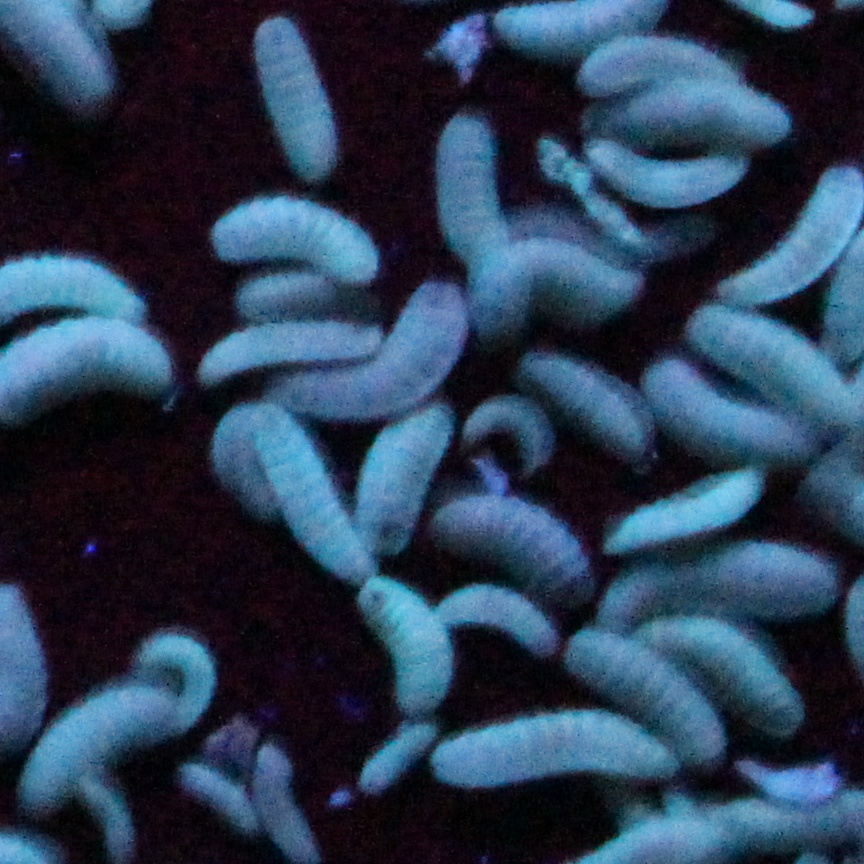larve: (293, 289, 464, 407), (250, 407, 368, 576), (31, 672, 184, 802), (640, 358, 810, 470), (644, 616, 804, 734), (577, 635, 727, 760), (465, 243, 654, 338), (429, 494, 595, 602), (701, 307, 854, 421), (604, 547, 832, 622), (195, 188, 378, 275), (432, 715, 658, 782), (349, 411, 452, 555), (584, 79, 803, 146), (529, 352, 650, 467), (249, 17, 337, 174), (357, 577, 449, 711), (581, 136, 747, 207), (614, 470, 756, 549), (430, 116, 508, 257), (198, 316, 381, 368), (440, 584, 552, 652)
